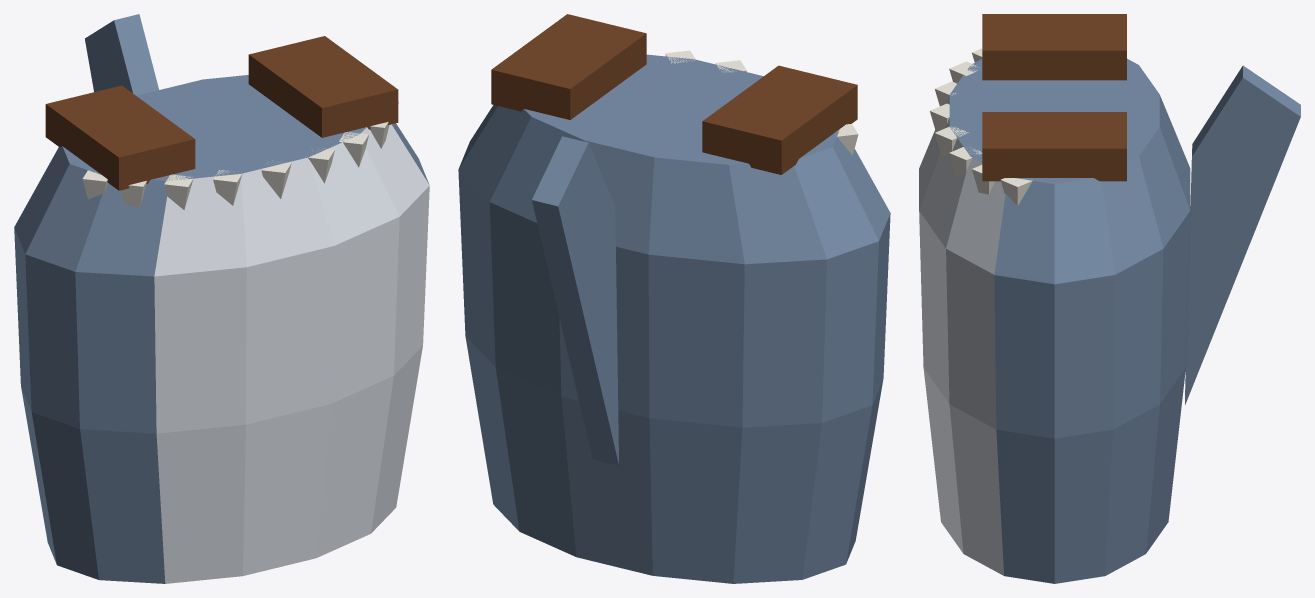
File: GearSharkArmor.obj
The picture shows the model from 3 angles, left to right: view 1: azimuth 30°, elevation 25°; view 2: azimuth 150°, elevation 25°; view 3: azimuth 270°, elevation 25°; orthographic projection. The views are drawn at different scales.
Parts seen in each view (by area): view 1: GearSharkArmor; view 2: GearSharkArmor; view 3: GearSharkArmor.
Boxes of the visible parts, left/top/right/bottom form: GearSharkArmor: left=14, top=14, right=429, bottom=583; GearSharkArmor: left=458, top=14, right=890, bottom=583; GearSharkArmor: left=919, top=14, right=1300, bottom=583.
Size of the model in its own units: 0.31 by 0.33 by 0.2637.
